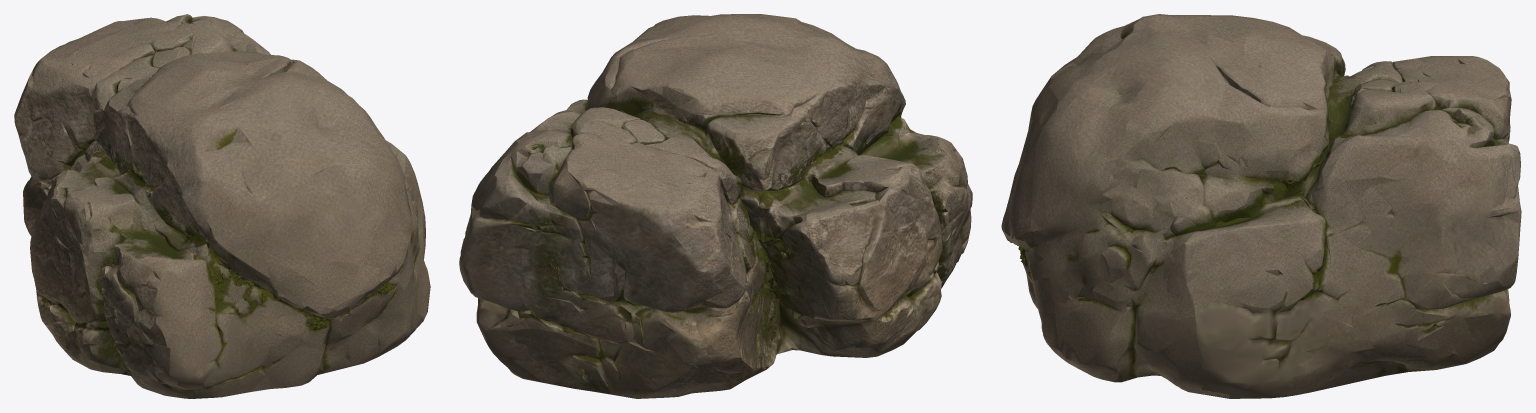
Rendered from kaya_kumesi.glb.
3 views of the same model, side by side, from view 1: azimuth 30°, elevation 25°; view 2: azimuth 150°, elevation 25°; view 3: azimuth 270°, elevation 25° (orthographic). The views are drawn at different scales.
Parts seen in each view (by area): view 1: Mesh_0; view 2: Mesh_0; view 3: Mesh_0.
Part boxes in pixels (x1,y1,x2,y2): Mesh_0: (14,14,430,398); Mesh_0: (459,14,972,398); Mesh_0: (1001,14,1521,398).
Size of the model in its own units: 1.66 by 1.09 by 1.9.
1 material, 1 textured.
